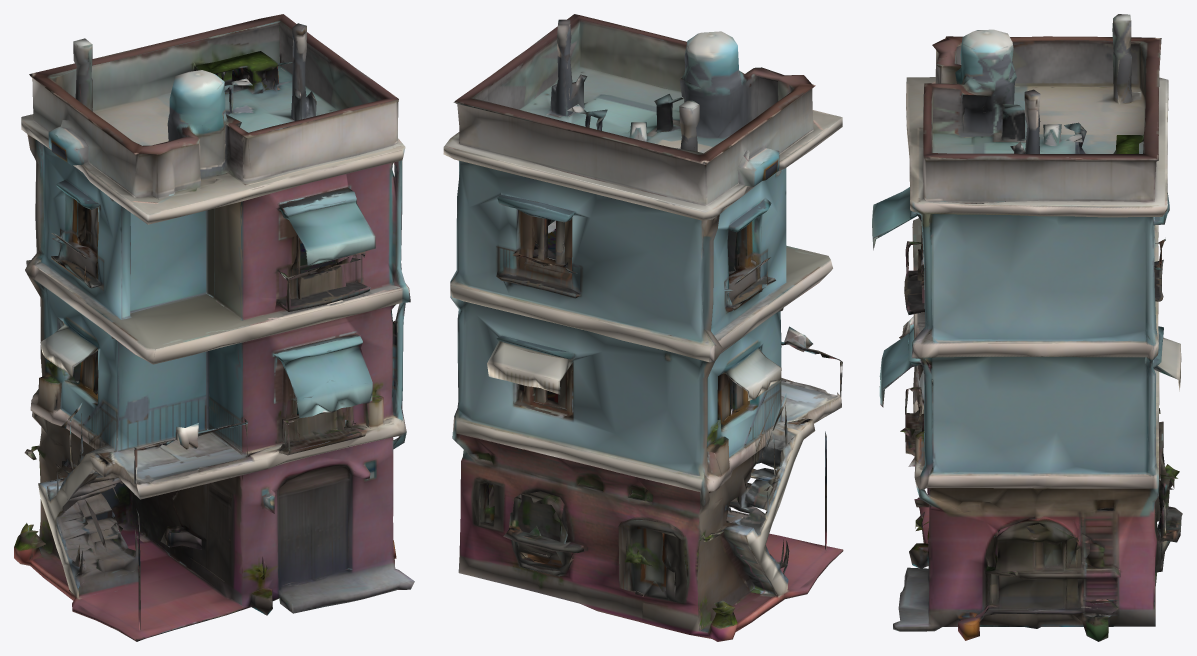
Rendered from IndianBuilding2.fbx.
3 renders of one model, left to right at view 1: azimuth 30°, elevation 25°; view 2: azimuth 150°, elevation 25°; view 3: azimuth 270°, elevation 25°, orthographic.
Visible parts, largest first — view 1: IndianBuilding2; view 2: IndianBuilding2; view 3: IndianBuilding2.
Part boxes in pixels (x1,y1,x2,y2): IndianBuilding2: (14, 14, 414, 641); IndianBuilding2: (443, 14, 843, 641); IndianBuilding2: (872, 14, 1182, 641).
Bounding box in the file's own units: 445 × 739 × 401.
Materials: 1 (1 with a texture image).
